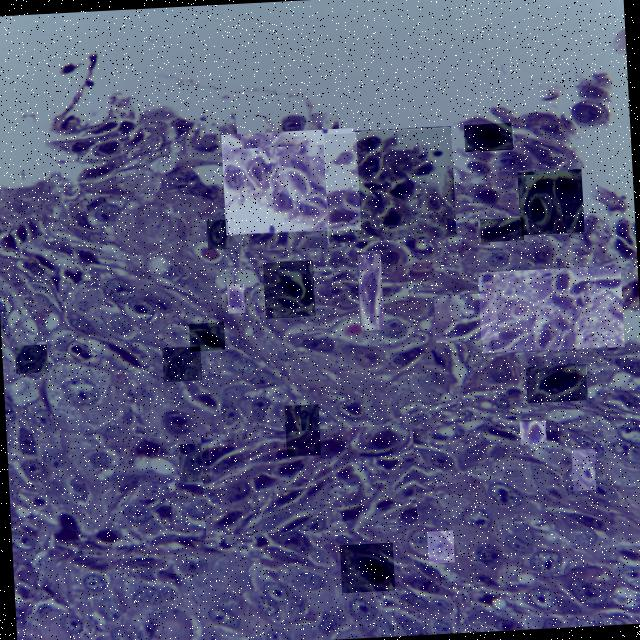Multiple Nucleol: (285, 405, 317, 455), (163, 347, 199, 382), (178, 444, 207, 482), (571, 450, 594, 490), (571, 434, 603, 462), (426, 531, 453, 563), (15, 345, 45, 373), (138, 480, 173, 499), (207, 220, 227, 249)
Nuclear Hyperchromatism: (205, 427, 412, 534), (327, 133, 452, 240), (222, 132, 357, 229), (482, 268, 620, 353), (519, 171, 582, 234), (435, 294, 495, 342), (264, 262, 313, 317), (339, 545, 392, 591), (526, 365, 585, 403), (358, 254, 381, 329), (463, 124, 511, 151), (479, 218, 522, 242), (188, 324, 224, 349), (519, 421, 545, 443), (227, 284, 244, 313)
